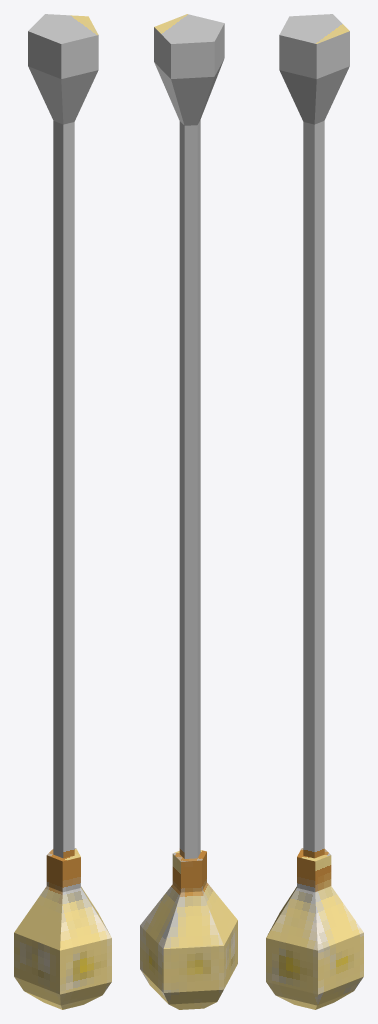
The model's file is lamp_home.fbx.
3 renders of one model, left to right at view 1: azimuth 30°, elevation 25°; view 2: azimuth 150°, elevation 25°; view 3: azimuth 330°, elevation 25°, orthographic.
Parts seen in each view (by area): view 1: lamp home; view 2: lamp home; view 3: lamp home.
Part boxes in pixels (left/top/right/bottom): lamp home: left=14, top=14, right=111, bottom=1009; lamp home: left=140, top=14, right=237, bottom=1009; lamp home: left=266, top=14, right=363, bottom=1009.
Size of the model in its own units: 5 by 55.37 by 5.
Materials: 1 (1 with a texture image).
